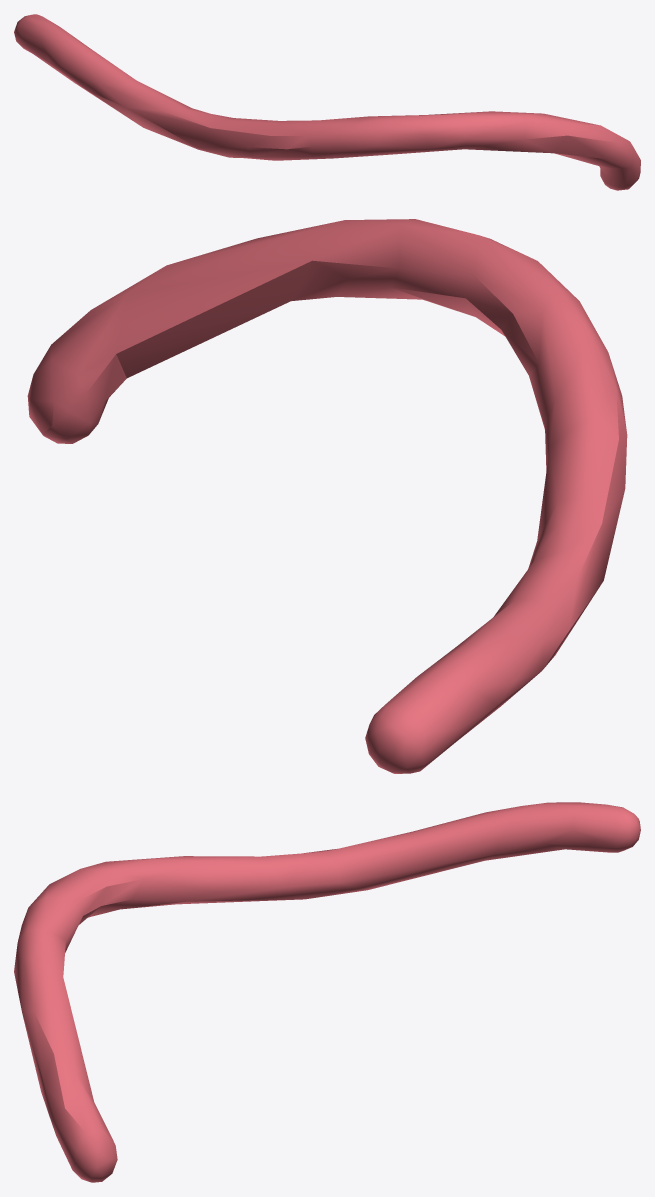
The model's file is fma50574_fj1726.glb.
The picture shows the model from 3 angles, top to bottom: view 1: azimuth 30°, elevation 25°; view 2: azimuth 150°, elevation 25°; view 3: azimuth 270°, elevation 25°; orthographic projection. The views are drawn at different scales.
Visible parts, largest first — view 1: FMA50574_FJ1726; view 2: FMA50574_FJ1726; view 3: FMA50574_FJ1726.
Part boxes in pixels (bbox=[...]): FMA50574_FJ1726: bbox=[14, 14, 640, 190]; FMA50574_FJ1726: bbox=[27, 219, 627, 773]; FMA50574_FJ1726: bbox=[14, 802, 640, 1182].
Bounding box in the file's own units: 0.0221 × 0.0069 × 0.0233.
